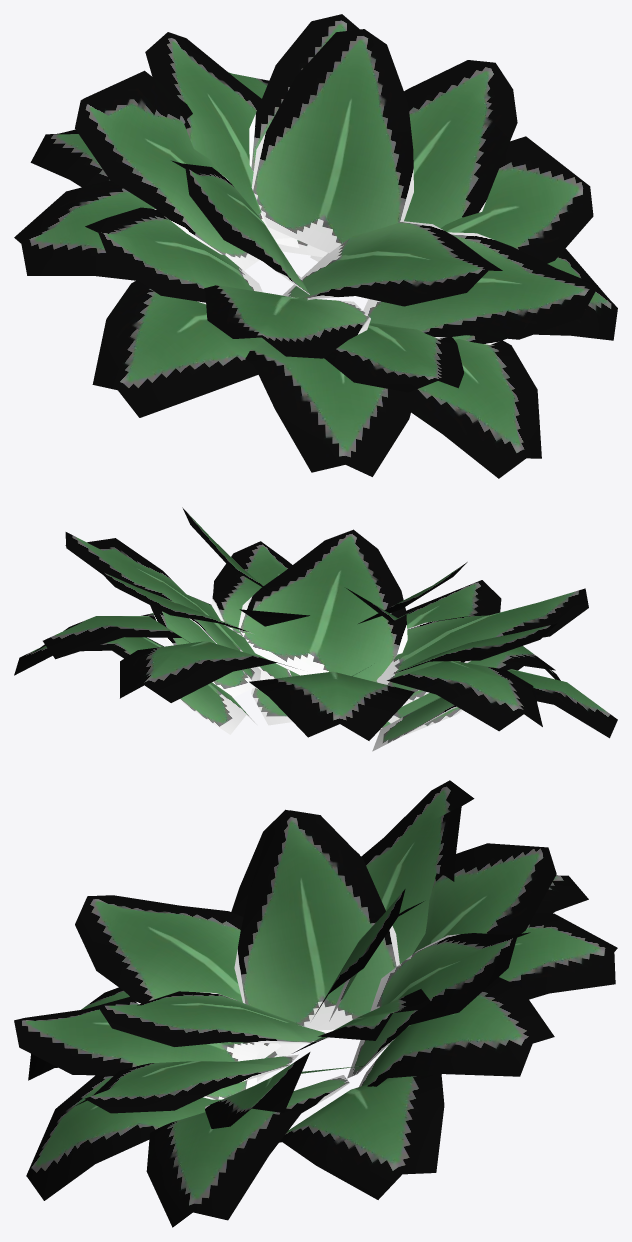
File: q_Plant_1.glb
3 views of the same model, one above another, from view 1: azimuth 30°, elevation 25°; view 2: azimuth 150°, elevation 25°; view 3: azimuth 270°, elevation 25° (orthographic). The views are drawn at different scales.
Visible parts, largest first — view 1: Plant_1_Plane.061; view 2: Plant_1_Plane.061; view 3: Plant_1_Plane.061.
Part boxes in pixels (bbox=[...]): Plant_1_Plane.061: bbox=[14, 14, 617, 478]; Plant_1_Plane.061: bbox=[14, 507, 617, 751]; Plant_1_Plane.061: bbox=[14, 780, 617, 1227].
Size of the model in its own units: 1.24 by 0.6862 by 1.2.
1 material, 1 textured.
